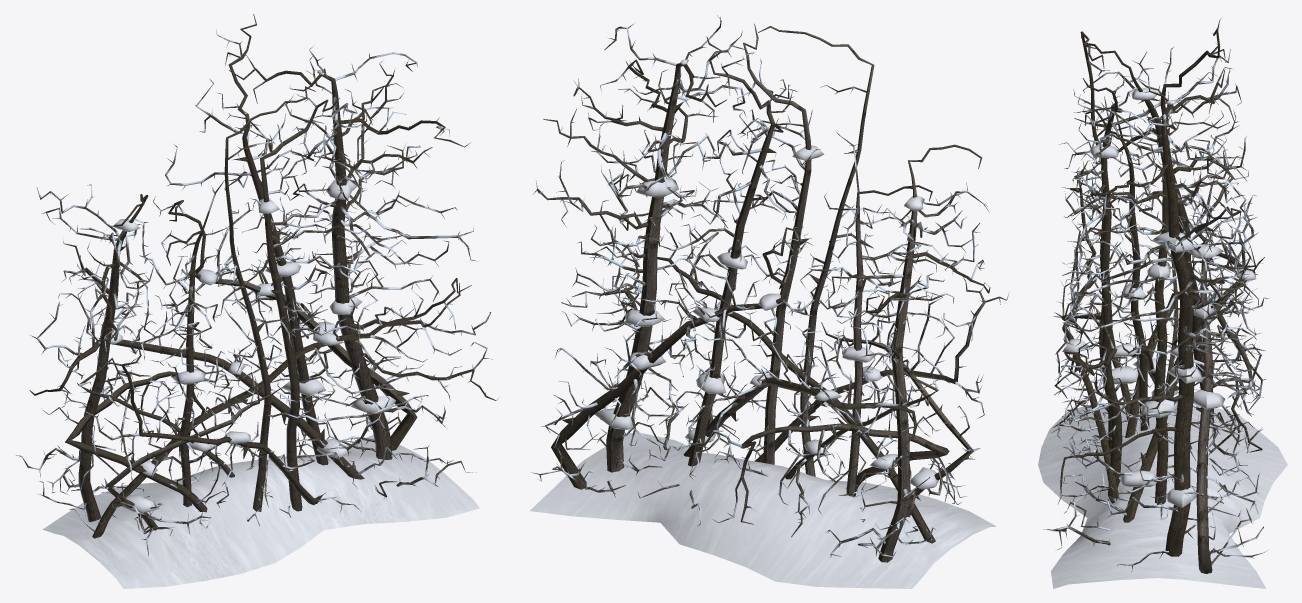
The model's file is hd_thorn3b.glb.
3 renders of one model, left to right at view 1: azimuth 30°, elevation 25°; view 2: azimuth 150°, elevation 25°; view 3: azimuth 270°, elevation 25°, orthographic. The views are drawn at different scales.
Visible parts, largest first — view 1: hd_thorn3b; view 2: hd_thorn3b; view 3: hd_thorn3b.
Part boxes in pixels (x1,y1,x2,y2): hd_thorn3b: (16, 14, 499, 588); hd_thorn3b: (530, 15, 1009, 588); hd_thorn3b: (1038, 15, 1287, 588).
Size of the model in its own units: 2.81 by 3.22 by 1.49.
1 material, 1 textured.
